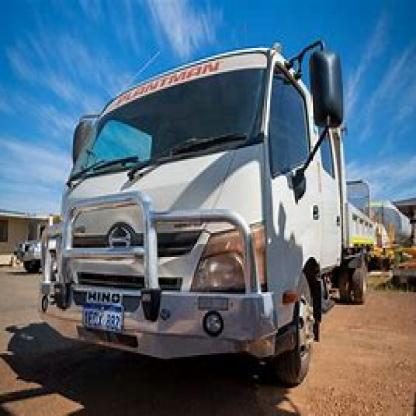dump_truck: (21, 32, 386, 390)
